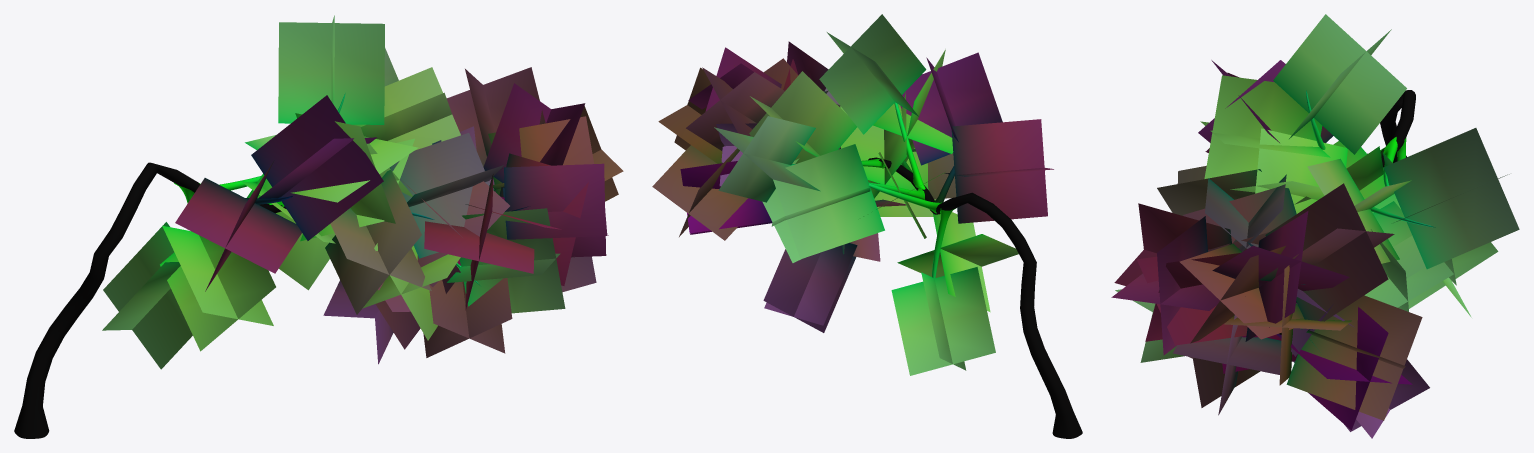
File: URP_P5_Tree_7_LOD_0.fbx
3 renders of one model, left to right at view 1: azimuth 30°, elevation 25°; view 2: azimuth 150°, elevation 25°; view 3: azimuth 270°, elevation 25°, orthographic. The views are drawn at different scales.
Parts seen in each view (by area): view 1: Tree_7_LOD_0; view 2: Tree_7_LOD_0; view 3: Tree_7_LOD_0.
Part boxes in pixels (x1=…): Tree_7_LOD_0: x1=14, y1=15, x2=623, y2=438; Tree_7_LOD_0: x1=652, y1=14, x2=1082, y2=438; Tree_7_LOD_0: x1=1111, y1=14, x2=1519, y2=438.
Size of the model in its own units: 480 by 332 by 304.
